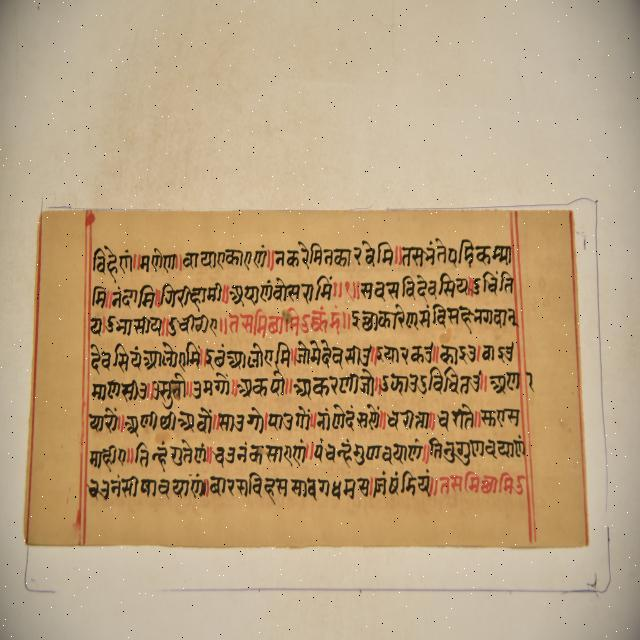text_paragraph: (27, 207, 590, 548)
